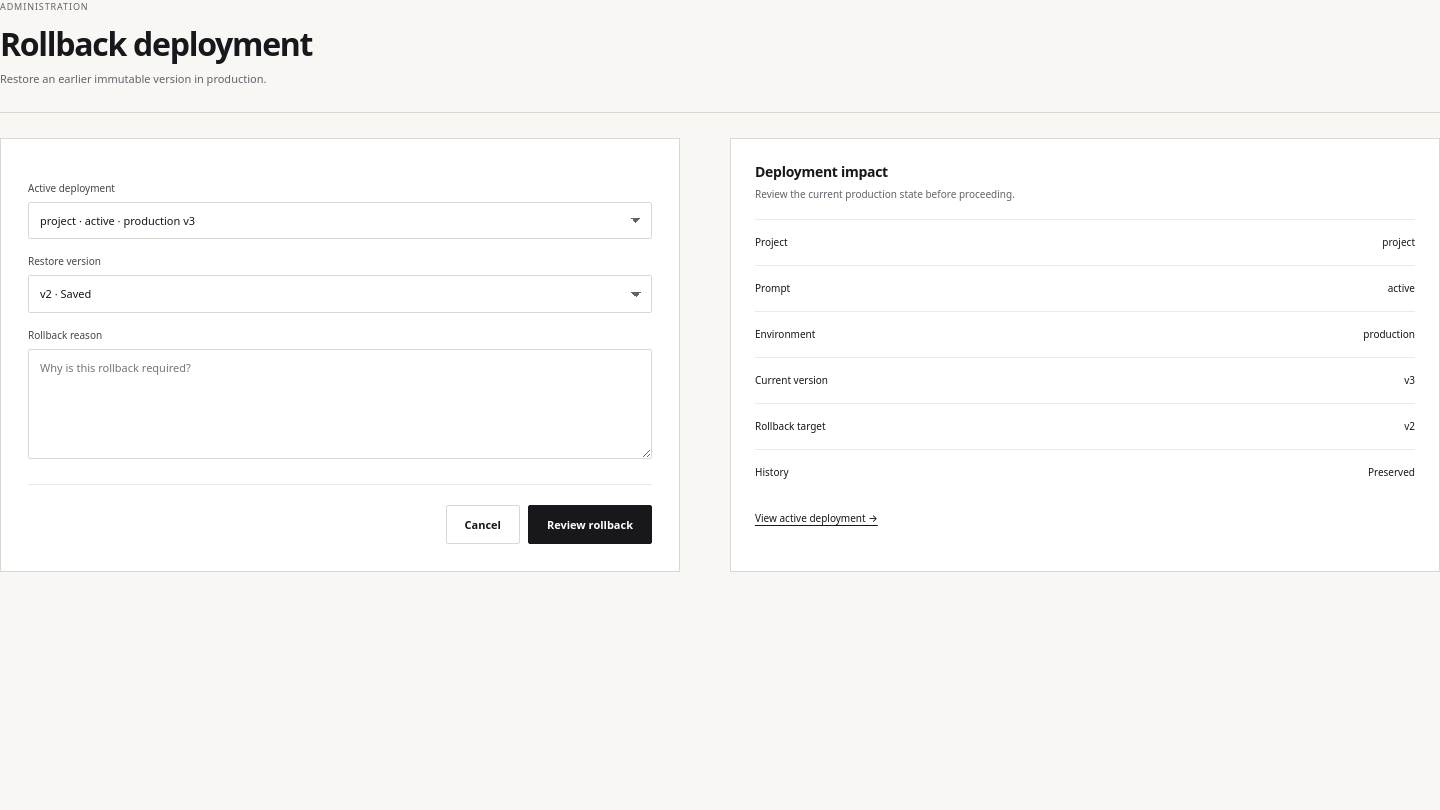
preserves the backend failure and reason, and refetches after failed rollback
In the text box labelled "Rollback reason": [340, 404] box x1=28 y1=349 x2=652 y2=459, type "My reason"
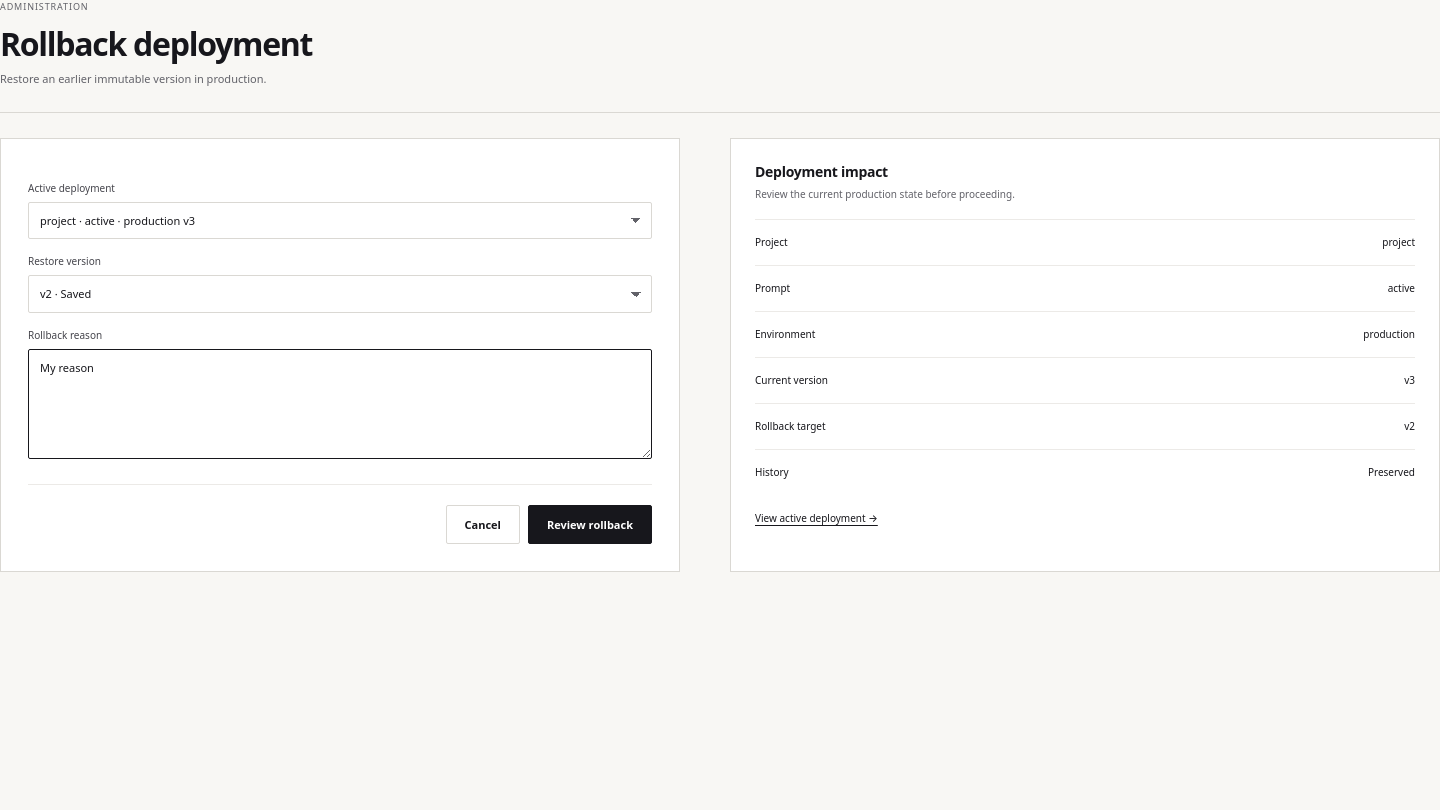
Click the button "Review rollback": [590, 524] box x1=528 y1=505 x2=652 y2=544
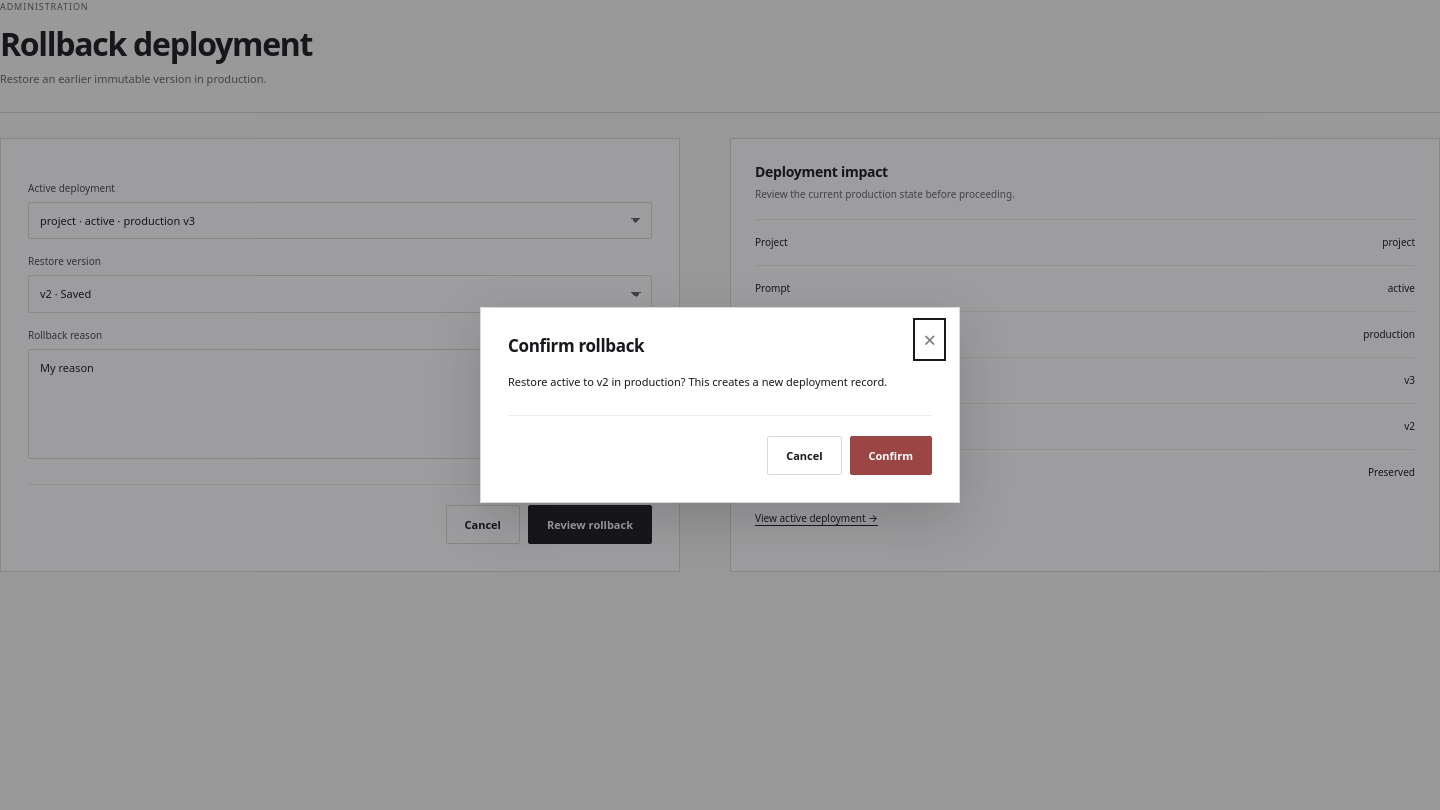
Click the button "Confirm": [891, 456] box x1=850 y1=436 x2=932 y2=476
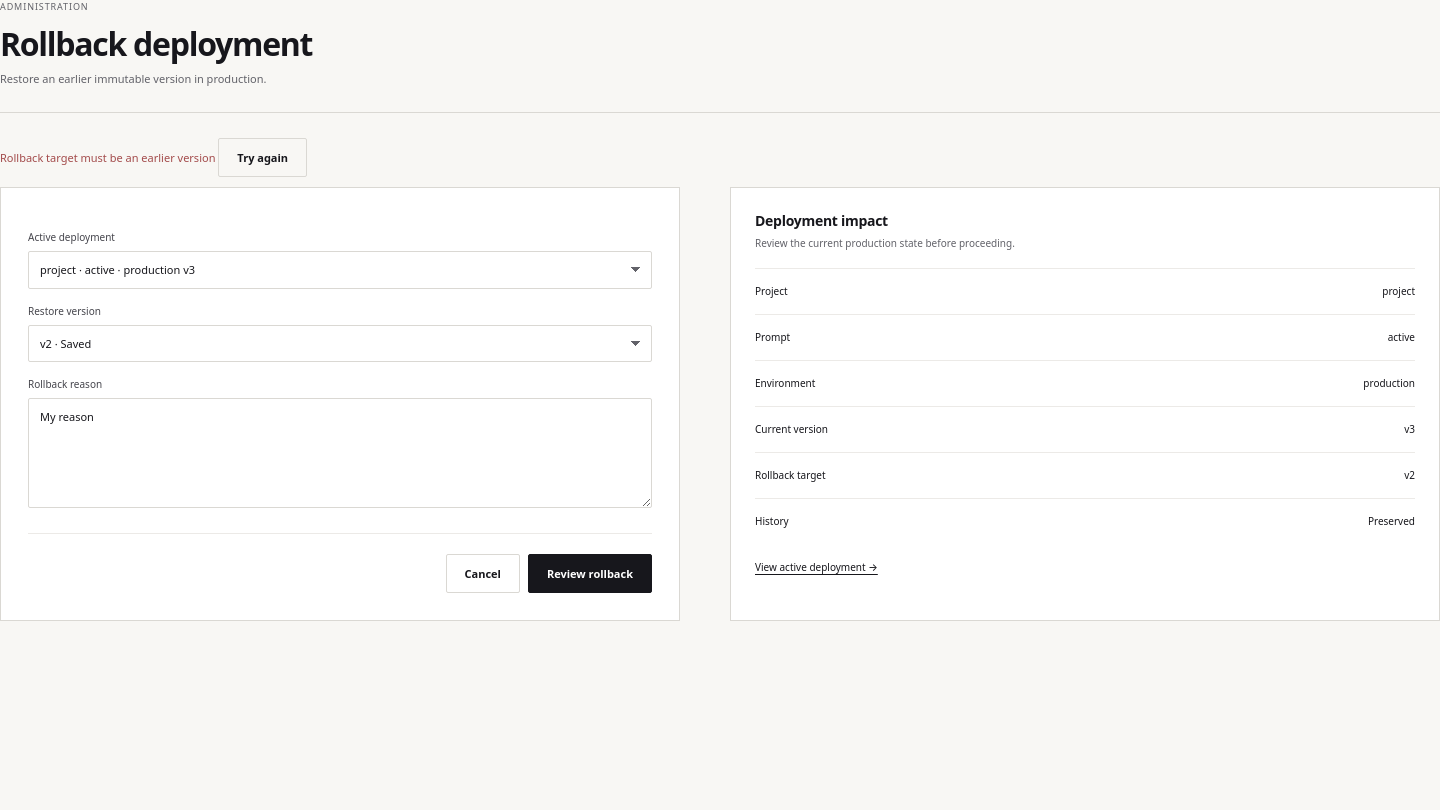
Result: the text "Rollback target must be an earlier version Try again" is shown at x1=0 y1=138 x2=307 y2=177
